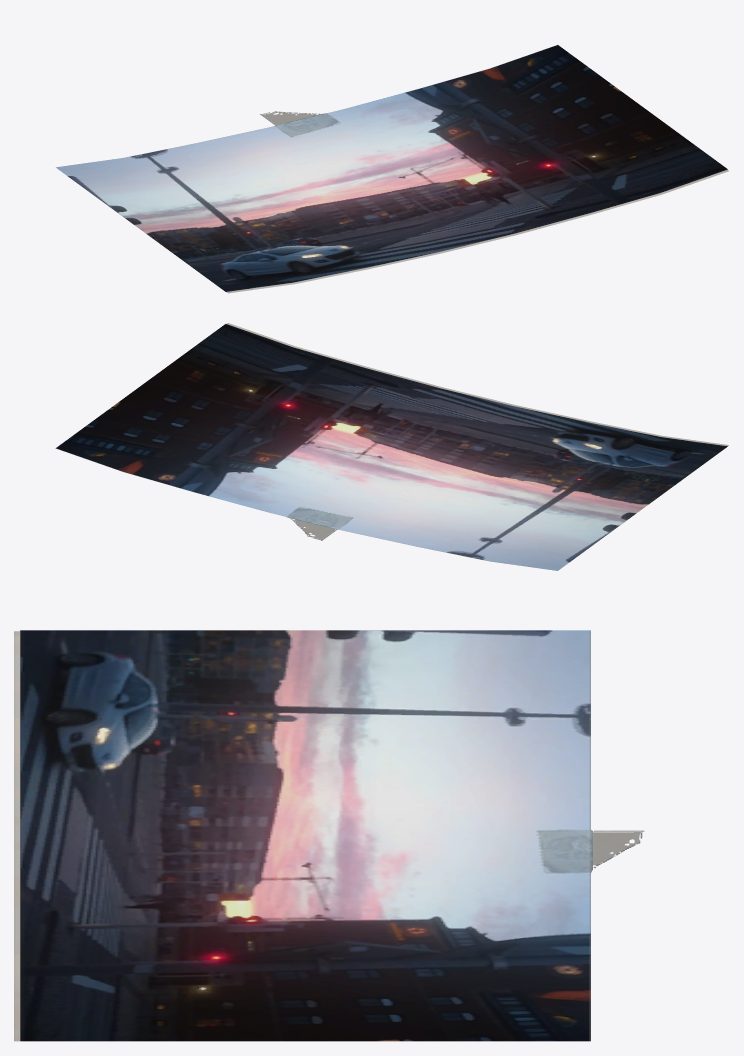
The model's file is 00_01_photos_holiday4.dae.
The picture shows the model from 3 angles, top to bottom: view 1: azimuth 30°, elevation 25°; view 2: azimuth 150°, elevation 25°; view 3: azimuth 270°, elevation 25°; orthographic projection. The views are drawn at different scales.
Parts seen in each view (by area): view 1: Plane; view 2: Plane; view 3: Plane.
Part boxes in pixels (bbox=[...]): Plane: bbox=[56, 45, 728, 293]; Plane: bbox=[55, 323, 728, 570]; Plane: bbox=[14, 630, 644, 1041].
Size of the model in its own units: 0.2511 by 0.1848 by 0.00589.
Materials: 1 (1 with a texture image).
